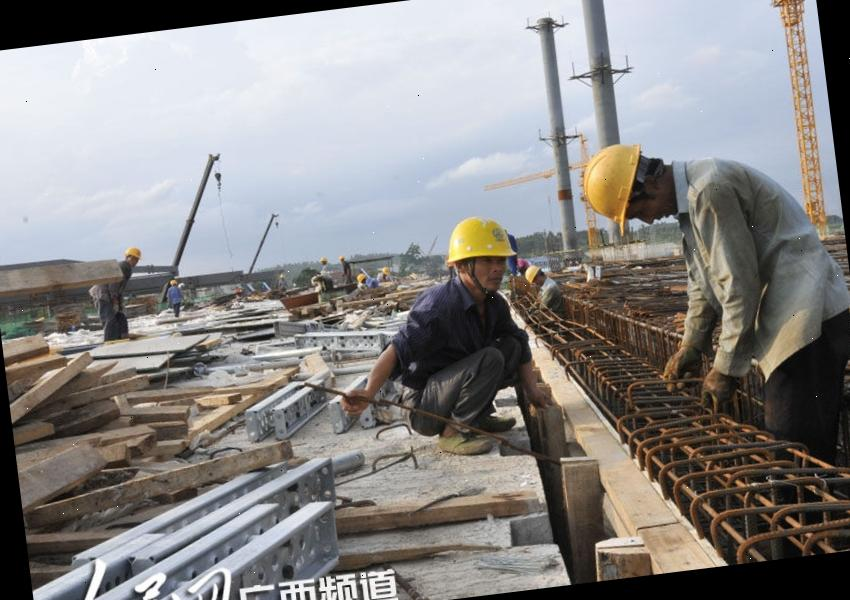helmet: (574, 139, 654, 222), (438, 210, 520, 270), (522, 264, 544, 284), (122, 245, 146, 261)
no_wear: (674, 148, 846, 371), (404, 284, 521, 386), (538, 280, 567, 315)
